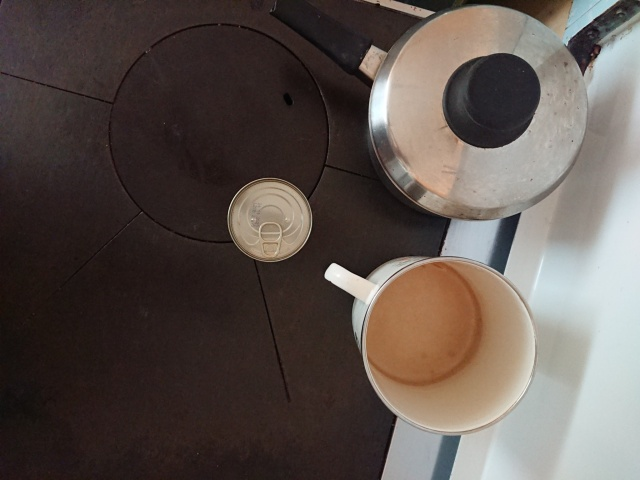Podravka Luncheon Meat 150g: (223, 175, 315, 266)
